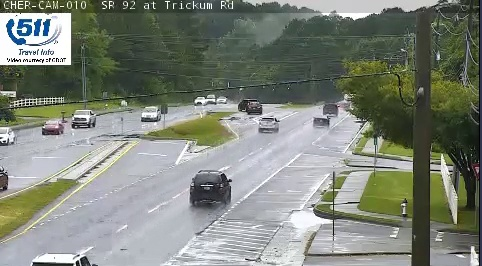car: (190, 172, 231, 203), (258, 117, 279, 132), (312, 115, 329, 128)
